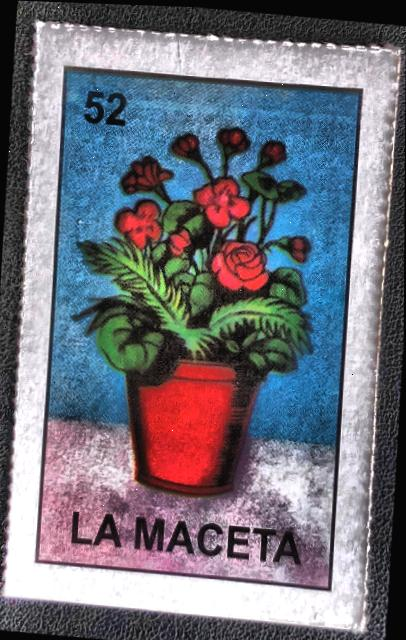La Maceta: (16, 33, 390, 617)
